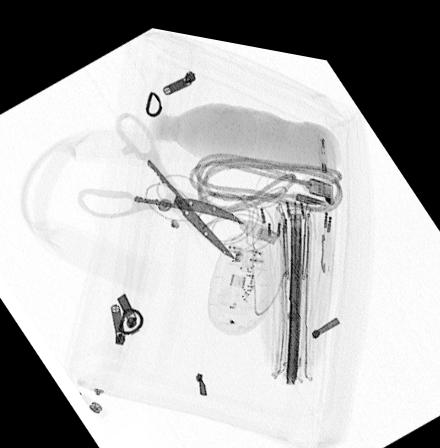Scissors: (73, 107, 244, 251)
